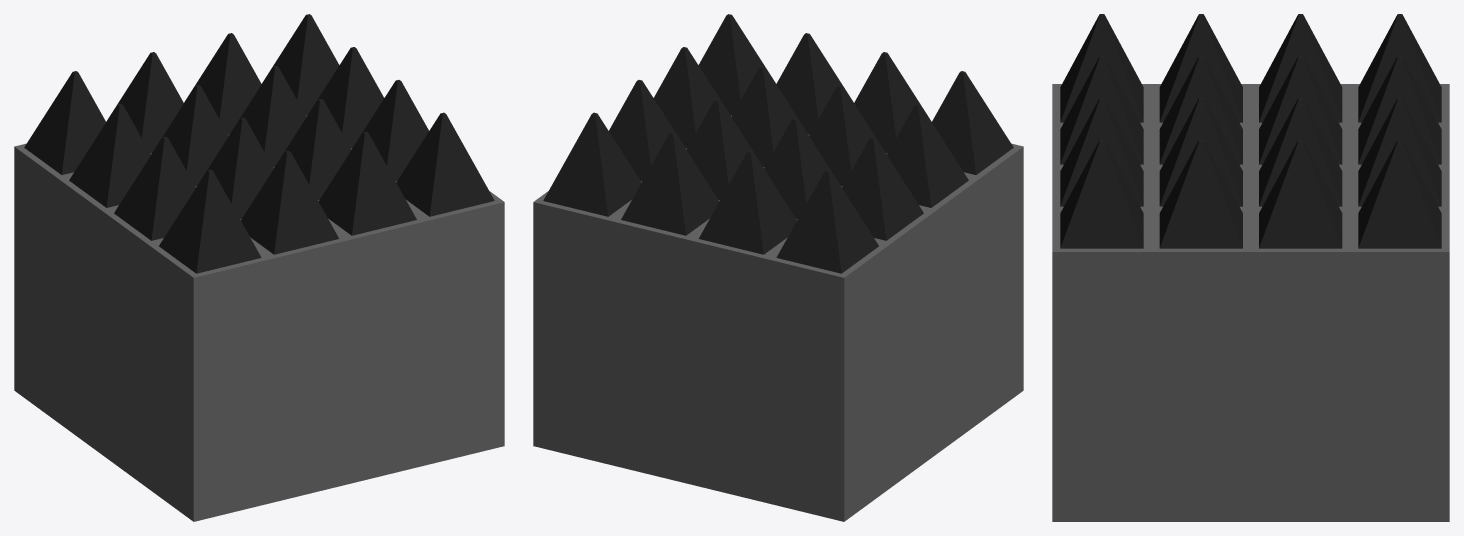
File: spikes.glb
The picture shows the model from 3 angles, left to right: view 1: azimuth 30°, elevation 25°; view 2: azimuth 150°, elevation 25°; view 3: azimuth 270°, elevation 25°; orthographic projection. The views are drawn at different scales.
Visible parts, largest first — view 1: Cube; view 2: Cube; view 3: Cube.
Boxes of the visible parts, x1=… form: Cube: x1=14, y1=14, x2=504, y2=521; Cube: x1=533, y1=14, x2=1023, y2=521; Cube: x1=1052, y1=14, x2=1449, y2=521.
Size of the model in its own units: 2 by 2 by 2.
1 material, 1 textured.
